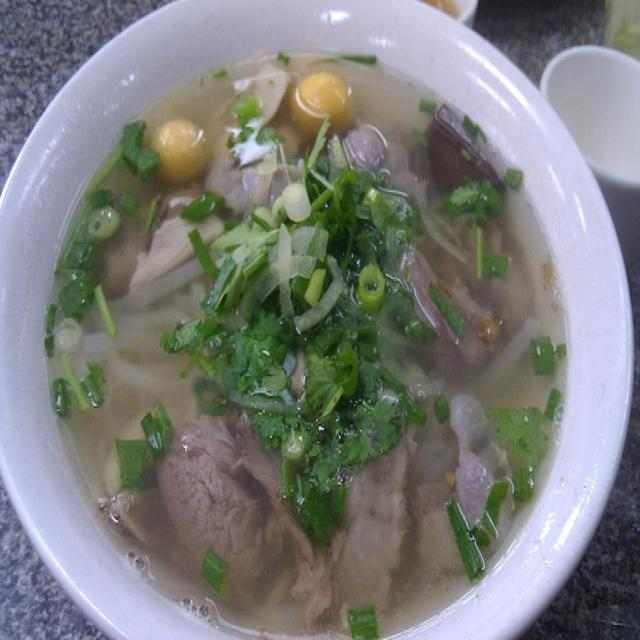面条主食: (8, 12, 622, 623)
